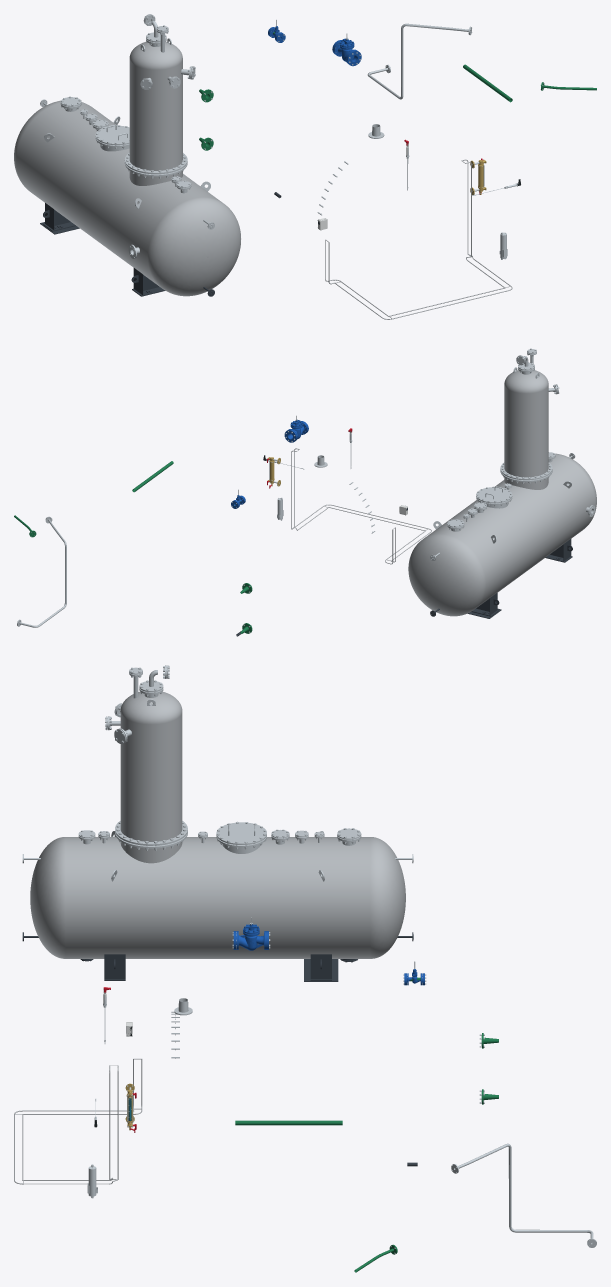
Rendered from s4000-1-D18zhnSU.glb.
The picture shows the model from 3 angles, top to bottom: view 1: azimuth 30°, elevation 25°; view 2: azimuth 150°, elevation 25°; view 3: azimuth 270°, elevation 25°; orthographic projection. The views are drawn at different scales.
Parts seen in each view (by area): view 1: deaerator CAD solid 56, deaerator CAD solid 257, cables / zinc, trap_gap_to_bdv / steel, deaerator CAD solid 408; view 2: deaerator CAD solid 56, deaerator CAD solid 257, cables / zinc, deaerator CAD solid 408, trap_gap_to_bdv / steel; view 3: deaerator CAD solid 56, deaerator CAD solid 257, cables / zinc, trap_gap_to_bdv / steel, deaerator CAD solid 408.
Part boxes in pixels (x1,y1,x2,y2): deaerator CAD solid 56: [14, 100, 240, 296]; deaerator CAD solid 257: [129, 41, 182, 170]; cables / zinc: [325, 159, 512, 319]; trap_gap_to_bdv / steel: [367, 23, 472, 99]; deaerator CAD solid 408: [95, 125, 129, 145]; deaerator CAD solid 56: [408, 453, 596, 616]; deaerator CAD solid 257: [504, 370, 548, 477]; cables / zinc: [291, 448, 431, 564]; deaerator CAD solid 408: [476, 487, 512, 503]; trap_gap_to_bdv / steel: [17, 516, 66, 627]; deaerator CAD solid 56: [30, 837, 405, 958]; deaerator CAD solid 257: [120, 691, 182, 841]; cables / zinc: [14, 1058, 142, 1184]; trap_gap_to_bdv / steel: [451, 1143, 596, 1247]; deaerator CAD solid 408: [216, 822, 266, 844].
Bounding box in the file's own units: 9.07 × 4.72 × 6.78.
